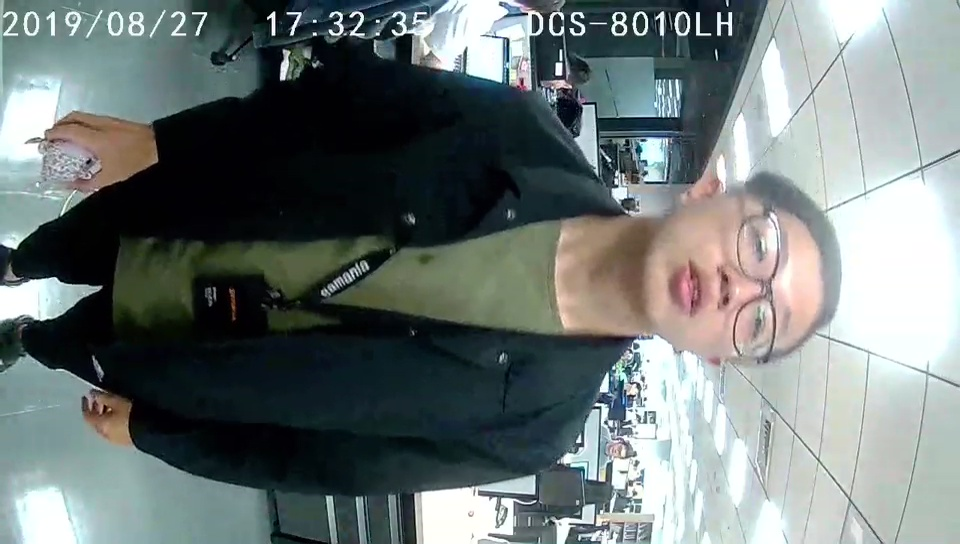pig: (42, 137, 104, 191)
